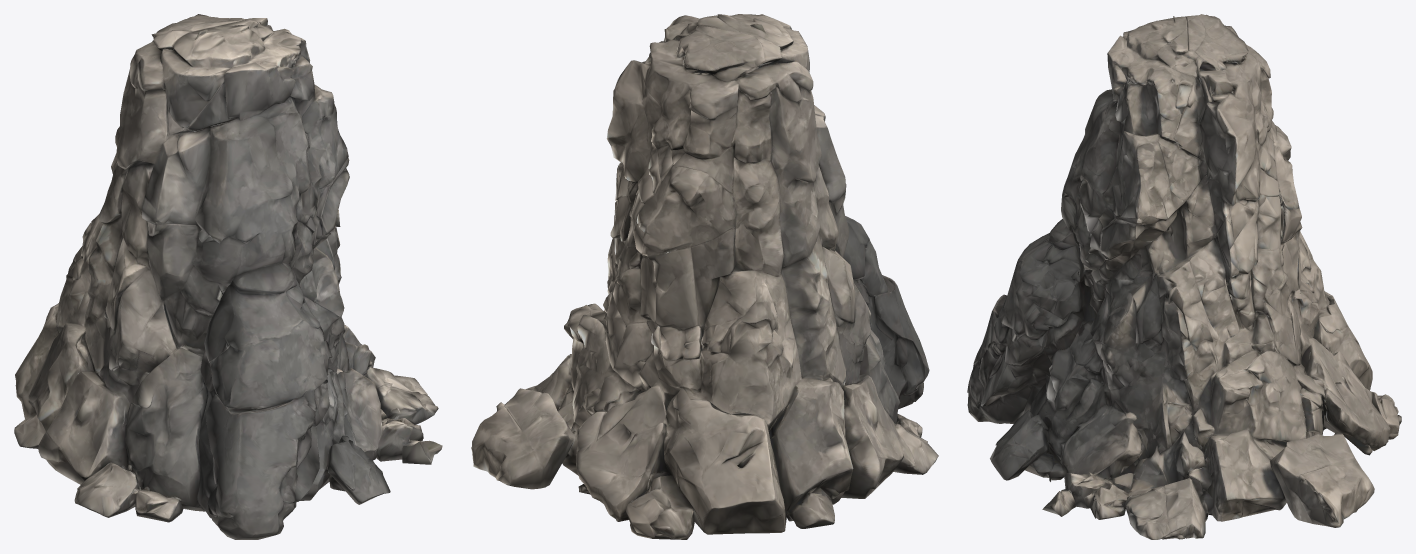
File: tor_a.glb
3 views of the same model, side by side, from view 1: azimuth 30°, elevation 25°; view 2: azimuth 150°, elevation 25°; view 3: azimuth 270°, elevation 25° (orthographic). The views are drawn at different scales.
Visible parts, largest first — view 1: tor_a; view 2: tor_a; view 3: tor_a.
Part boxes in pixels (bbox=[...]): tor_a: bbox=[14, 14, 442, 539]; tor_a: bbox=[471, 14, 938, 539]; tor_a: bbox=[967, 14, 1401, 539].
Size of the model in its own units: 22.01 by 24.01 by 22.75.
Materials: 1 (1 with a texture image).
